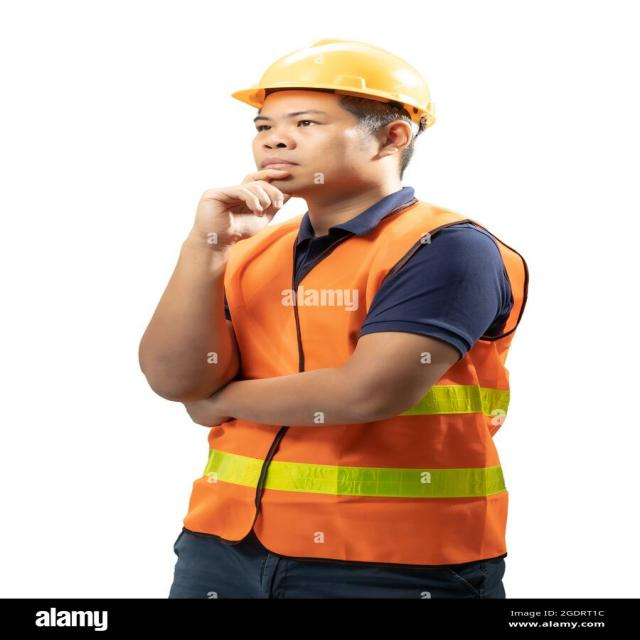Reflective-Jacket: (175, 202, 534, 565)
Safety-Helmet: (227, 34, 442, 127)
